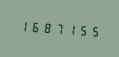eight: (41, 18, 52, 36)
five: (77, 21, 88, 39), (89, 22, 100, 39)
one: (65, 20, 76, 38), (17, 17, 28, 34)
seven: (53, 19, 64, 37)
six: (29, 17, 40, 35)
